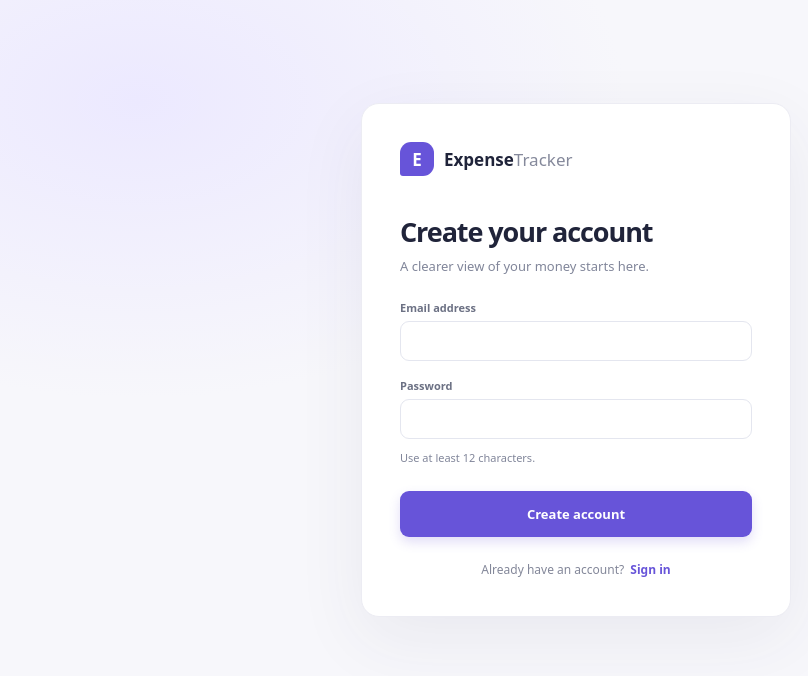
Scenario: authentication pages › shows registration API errors instead of reporting a false success
This screenshot has width=808, height=676.
In the field labelled "Email address": (576,341) [400,321,752,361], type "person@example.com"
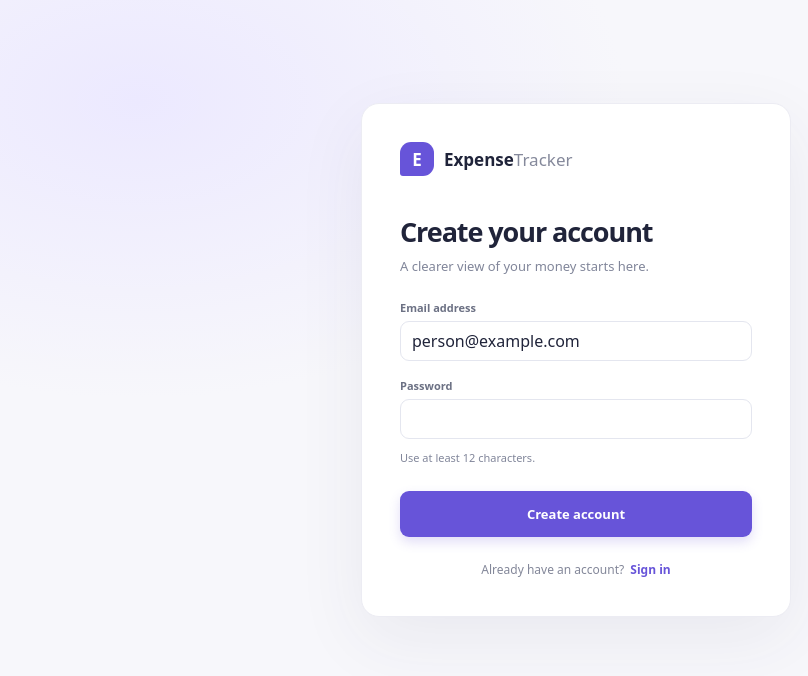
In the password field labelled "Password": (576,419) [400,399,752,439], type "very-secure-password"
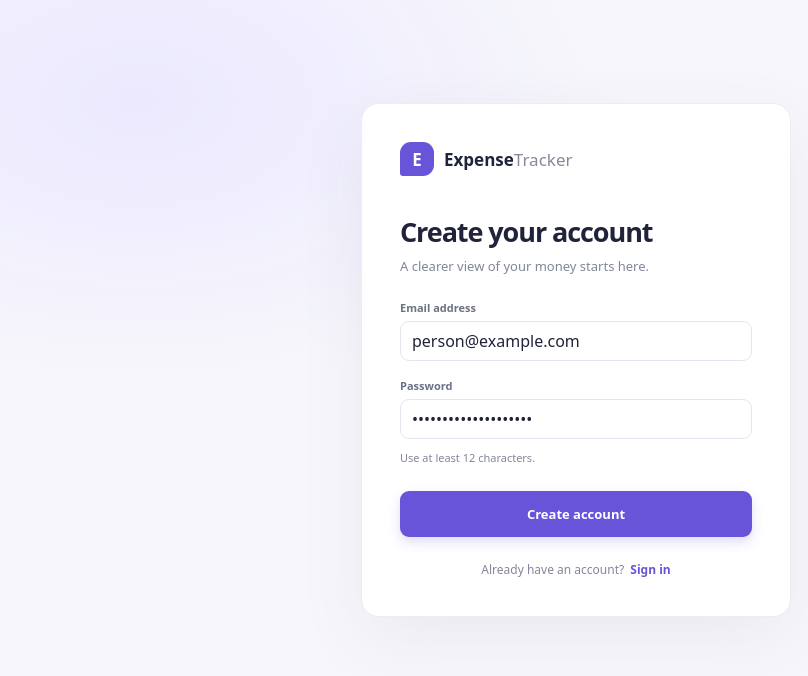
Click the button "Create account": (576,514) [400,491,752,537]
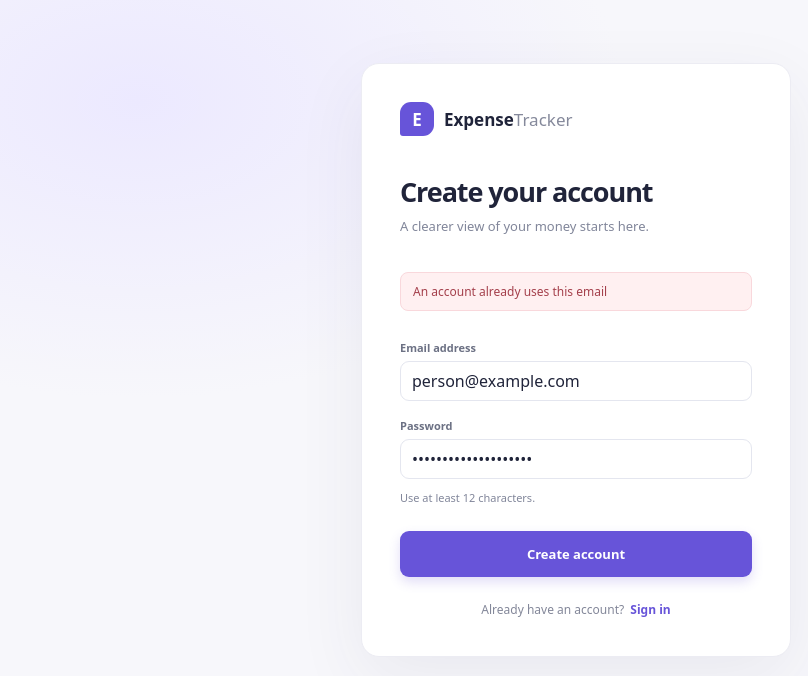
Expected: the message reads "An account already uses this email", [413,283,607,300]
